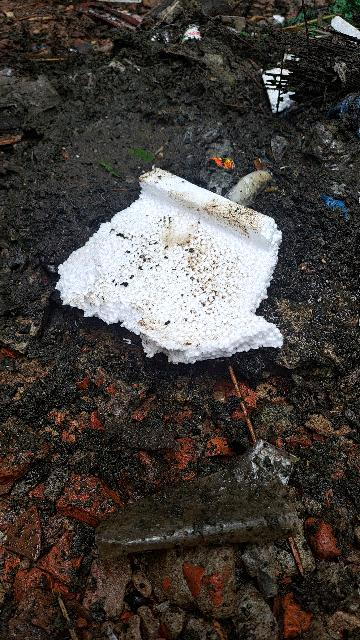cocksheet: (44, 139, 320, 389)
